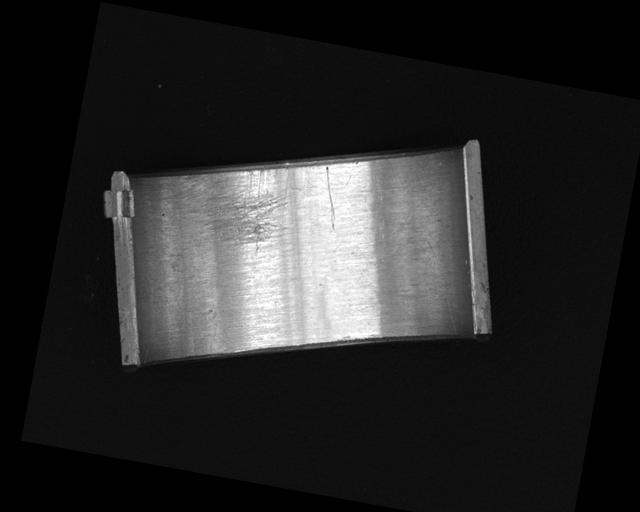nick: (412, 240, 470, 335), (314, 165, 346, 229)
scratch: (171, 148, 295, 257)
